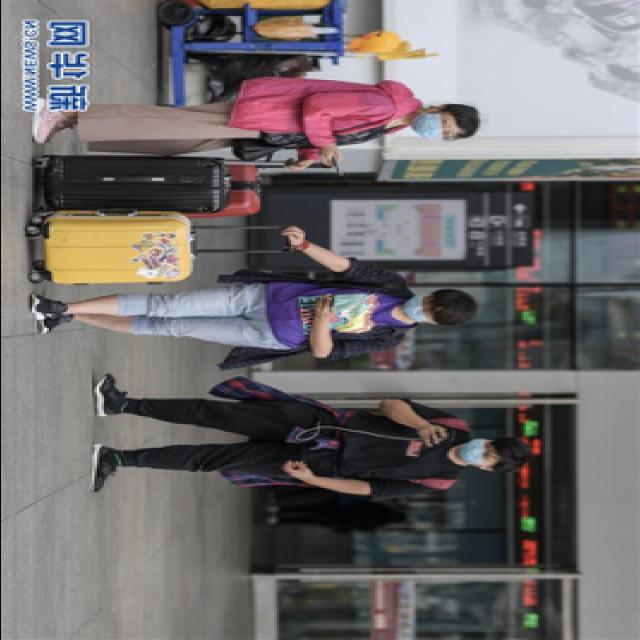mask: (410, 112, 465, 141), (453, 438, 499, 468), (398, 294, 441, 320)
